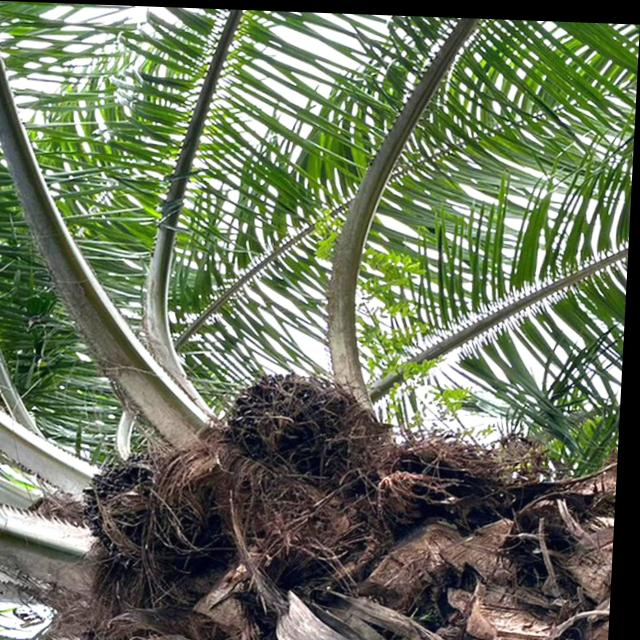almost: (220, 364, 365, 478), (80, 447, 207, 569)
